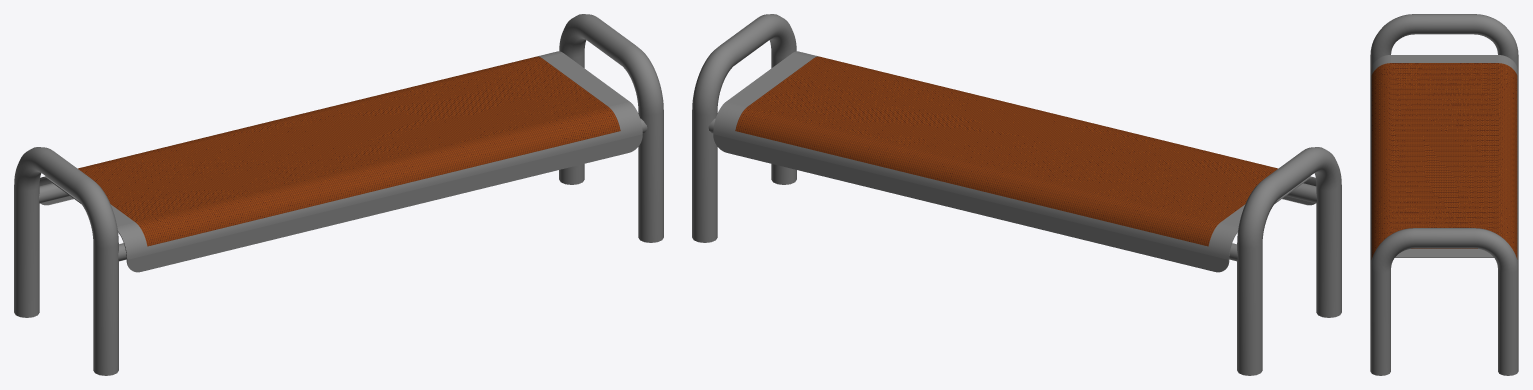
3 views of the same model, side by side, from view 1: azimuth 30°, elevation 25°; view 2: azimuth 150°, elevation 25°; view 3: azimuth 270°, elevation 25° (orthographic). The views are drawn at different scales.
Visible parts, largest first — view 1: mesh2_mesh2-geometry, mesh1_mesh1-geometry, mesh4_mesh4-geometry; view 2: mesh2_mesh2-geometry, mesh1_mesh1-geometry, mesh4_mesh4-geometry; view 3: mesh2_mesh2-geometry, mesh1_mesh1-geometry.
Part boxes in pixels (bbox=[...]): mesh2_mesh2-geometry: bbox=[39, 51, 642, 272]; mesh1_mesh1-geometry: bbox=[14, 14, 663, 375]; mesh4_mesh4-geometry: bbox=[39, 118, 647, 261]; mesh2_mesh2-geometry: bbox=[713, 51, 1316, 272]; mesh1_mesh1-geometry: bbox=[692, 14, 1341, 375]; mesh4_mesh4-geometry: bbox=[708, 118, 1316, 261]; mesh2_mesh2-geometry: bbox=[1370, 55, 1518, 268]; mesh1_mesh1-geometry: bbox=[1370, 14, 1518, 375].
Bounding box in the file's own units: 0.9253 × 0.2764 × 0.2599.
